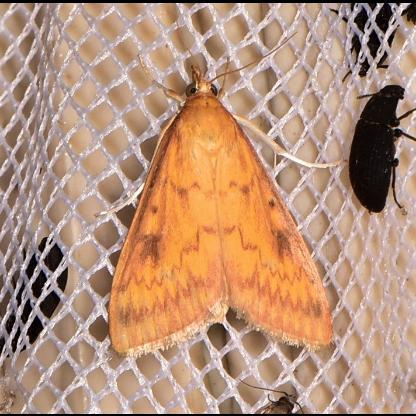Asian Corn Borer Moth: (92, 52, 352, 364)
